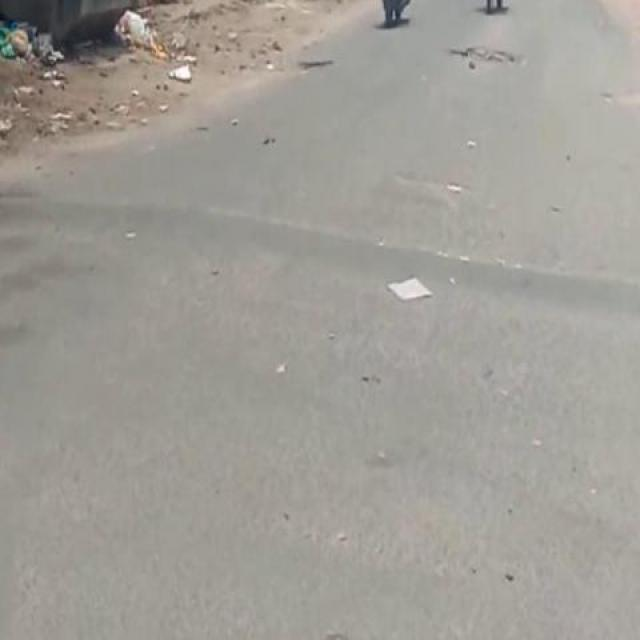Pothole: (446, 27, 517, 70), (288, 42, 346, 76)
Unmarked Bump: (1, 184, 639, 331)
